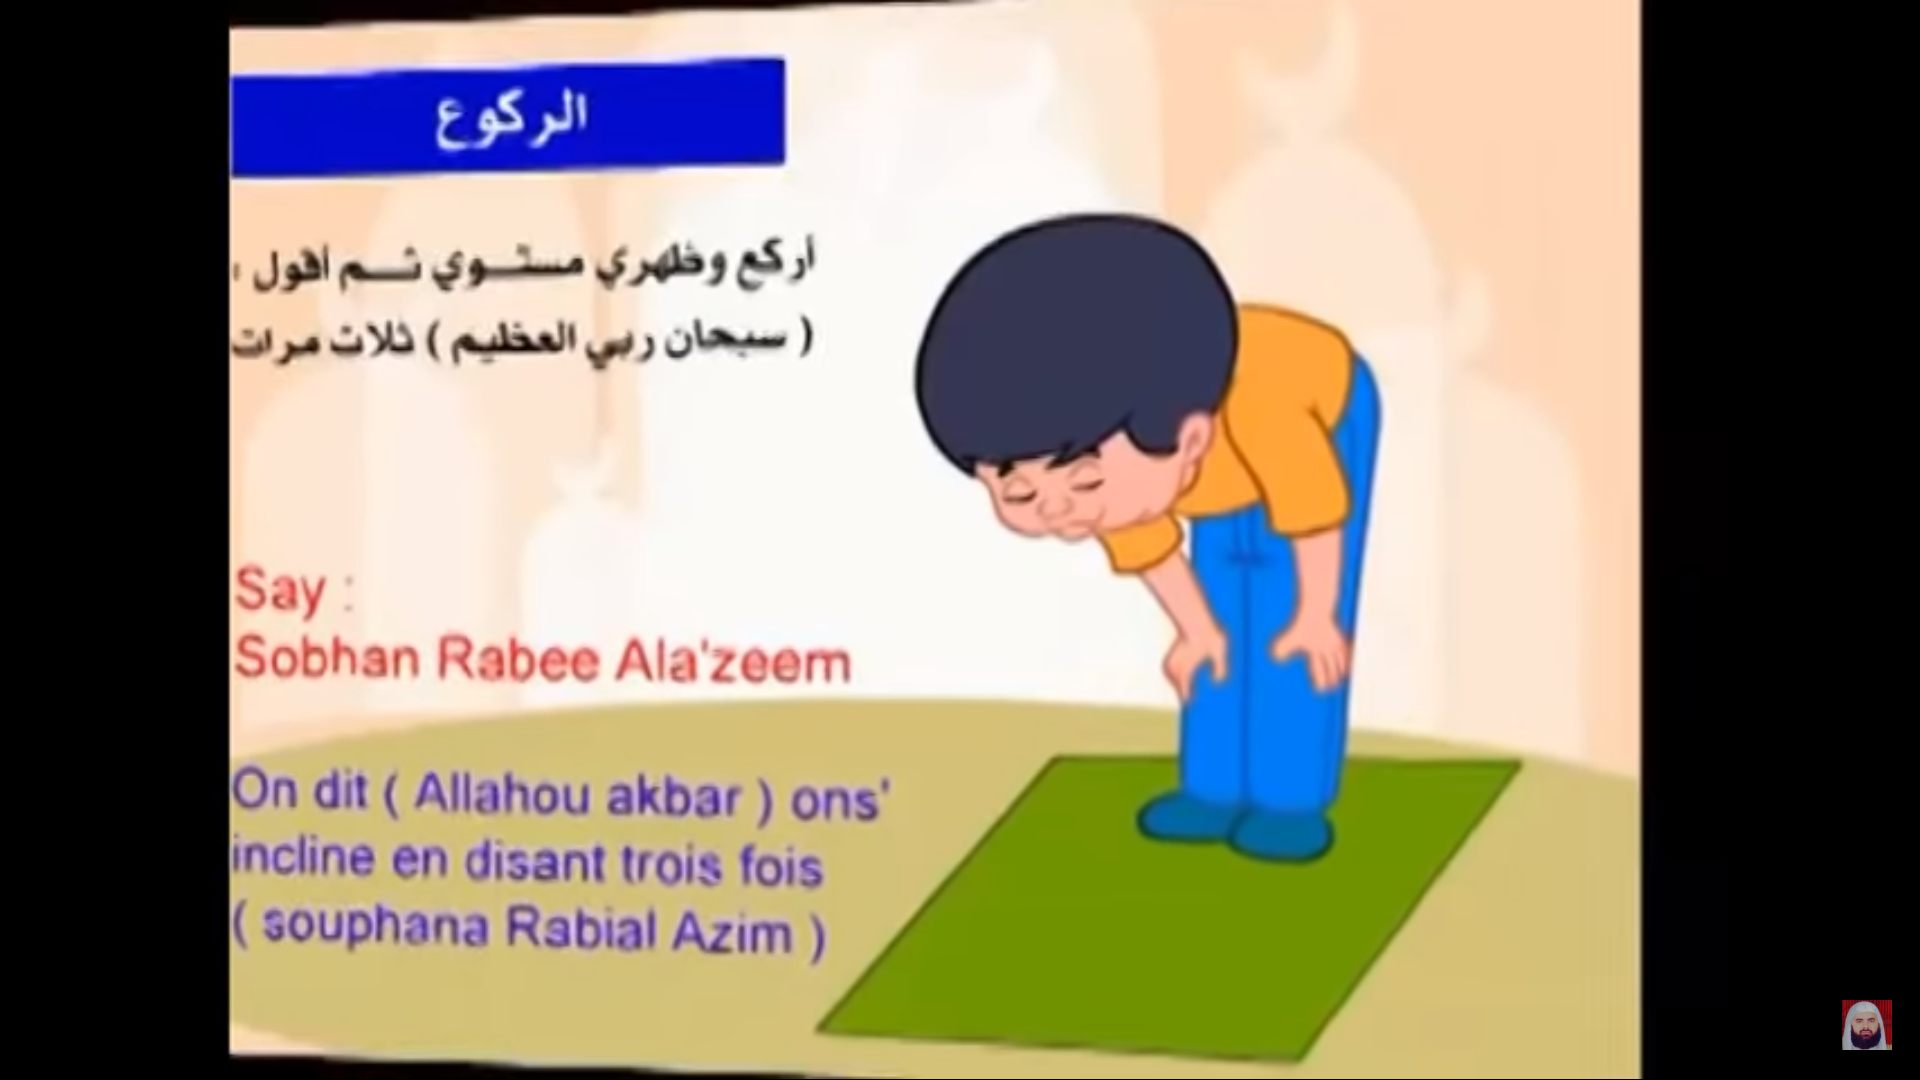ruku: (899, 166, 1602, 985)
